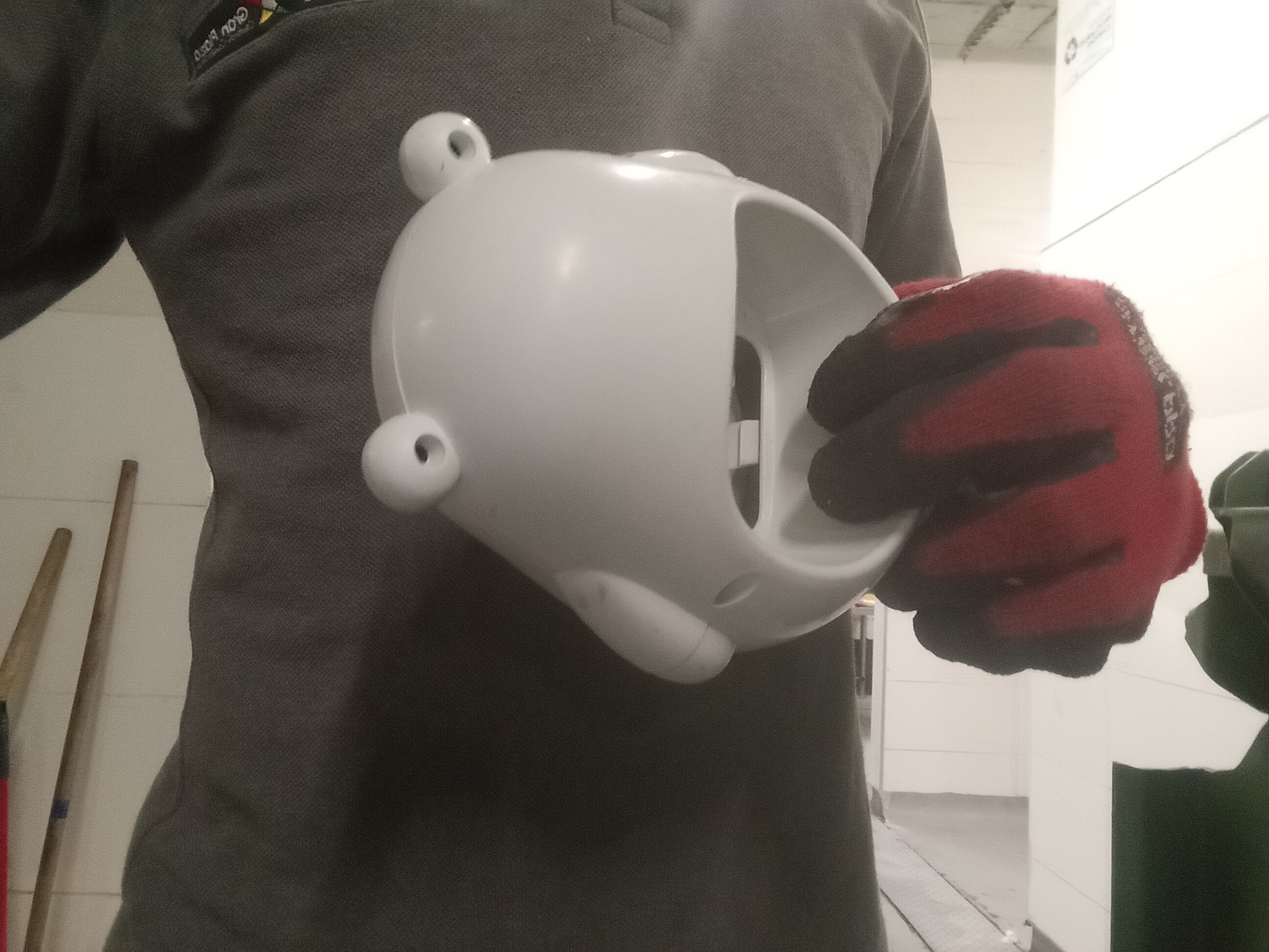Ordinario: (361, 112, 932, 688)
